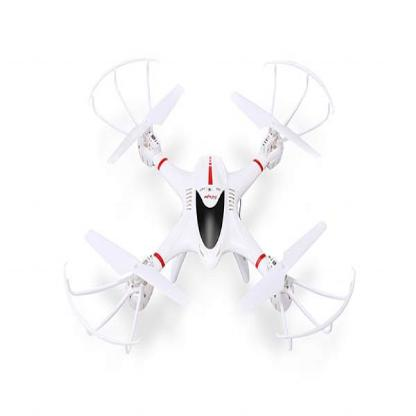drone: (44, 56, 366, 357)
